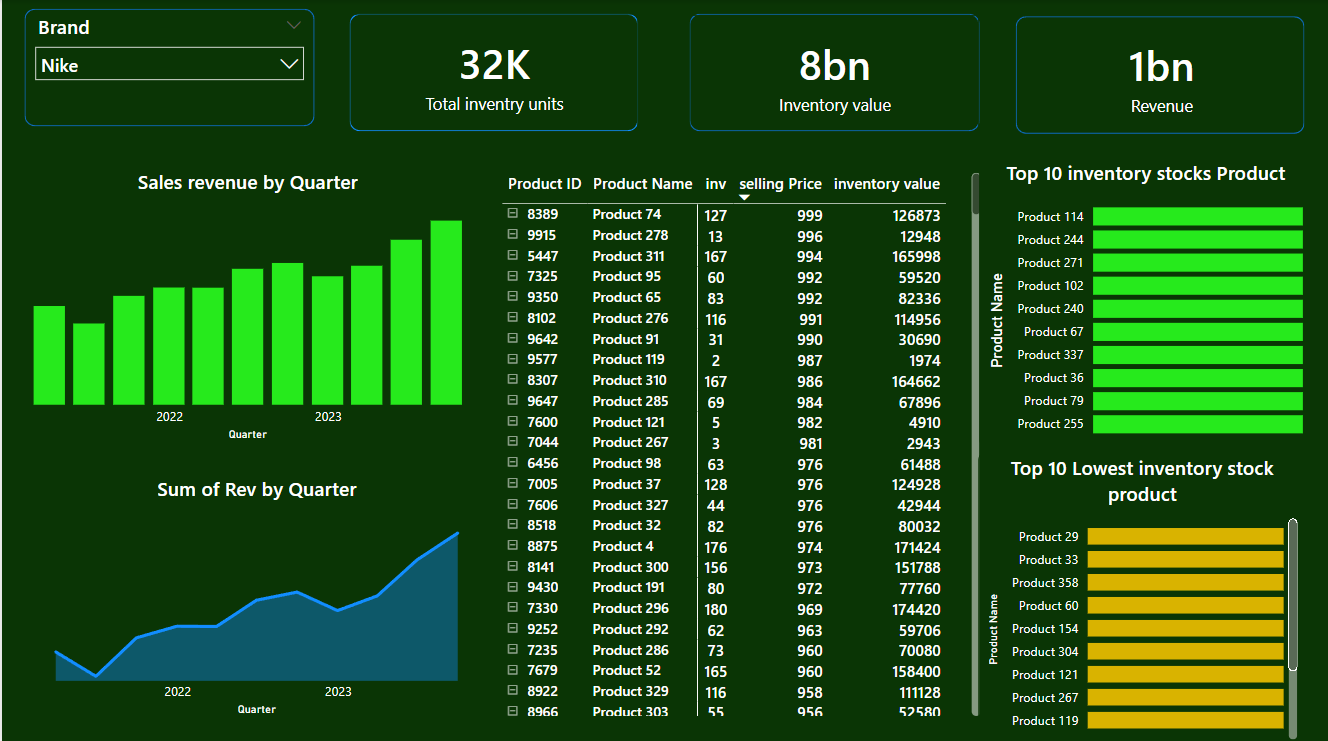

This screenshot's page, from the dashboard's own definition file:
{"tool":"powerbi","page":{"name":"Page 1","canvas":[1280,720],"ordinal":0},"visuals":[{"type":"pivotTable","fields":{"Rows":["Master.Product ID","Master.Product Name"],"Values":["Sum(Master.Inv)","Calender.Total sp Value","Calender.inventory value"]},"box":[474,158,477.6,540.3],"z":0},{"type":"columnChart","title":"Sales revenue by Quarter","fields":{"Y":["Sum(Sales.Rev)"],"Category":["Calender.Quarter"]},"box":[21.2,158.5,429.2,274.5],"z":1000},{"type":"stackedAreaChart","fields":{"Category":["Calender.Quarter"],"Y":["Sum(Sales.Rev)"]},"box":[29.8,455.1,429.8,243.2],"z":2000},{"type":"hundredPercentStackedBarChart","title":"Top 10 inventory stocks Product","fields":{"Category":["Master.Product Name"],"Y":["Calender.Total inventry units"]},"box":[943.1,149.2,319.3,285],"z":3000},{"type":"hundredPercentStackedBarChart","title":"Top 10 Lowest inventory stock product","fields":{"Category":["Master.Product Name"],"Y":["Calender.Total inventry units"]},"box":[941.6,434.2,314.9,286.5],"z":4000},{"type":"shape","box":[978.1,15.7,278.6,113.4],"z":5000},{"type":"shape","box":[663.3,13.3,279.8,113.4],"z":6000},{"type":"shape","box":[335.3,13.3,278.6,113.4],"z":7000},{"type":"shape","box":[21.7,8.4,279.8,113.4],"z":8000},{"type":"card","fields":{"Values":["Calender.Total inventry units"]},"box":[335.3,13.3,278.6,114.6],"z":9000},{"type":"card","fields":{"Values":["Calender.inventory value"]},"box":[663.8,15,279.5,113.6],"z":10000},{"type":"card","fields":{"Values":["Sum(Sales.Rev)"]},"box":[979.3,15.7,279.8,115.8],"z":11000},{"type":"slicer","fields":{"Values":["Master.Brand"]},"box":[21.7,8.4,279.8,73.6],"z":12000}]}

Visuals, with their boxes in screenshot pixels (x1, y1, x2, y2), scaled from the page's 1280x720 canvas onto the 1328x741 screenshot:
pivotTable - Master.Product ID x Master.Product Name: (x1=492, y1=163, x2=987, y2=719)
"Sales revenue by Quarter" columnChart: (x1=22, y1=163, x2=467, y2=446)
stackedAreaChart - Calender.Quarter x Sum(Sales.Rev): (x1=31, y1=468, x2=477, y2=719)
"Top 10 inventory stocks Product" hundredPercentStackedBarChart: (x1=978, y1=154, x2=1310, y2=447)
"Top 10 Lowest inventory stock product" hundredPercentStackedBarChart: (x1=977, y1=447, x2=1304, y2=740)
shape: (x1=1015, y1=16, x2=1304, y2=133)
shape: (x1=688, y1=14, x2=978, y2=130)
shape: (x1=348, y1=14, x2=637, y2=130)
shape: (x1=23, y1=9, x2=313, y2=125)
card - Calender.Total inventry units: (x1=348, y1=14, x2=637, y2=132)
card - Calender.inventory value: (x1=689, y1=15, x2=979, y2=132)
card - Sum(Sales.Rev): (x1=1016, y1=16, x2=1306, y2=135)
slicer - Master.Brand: (x1=23, y1=9, x2=313, y2=84)
